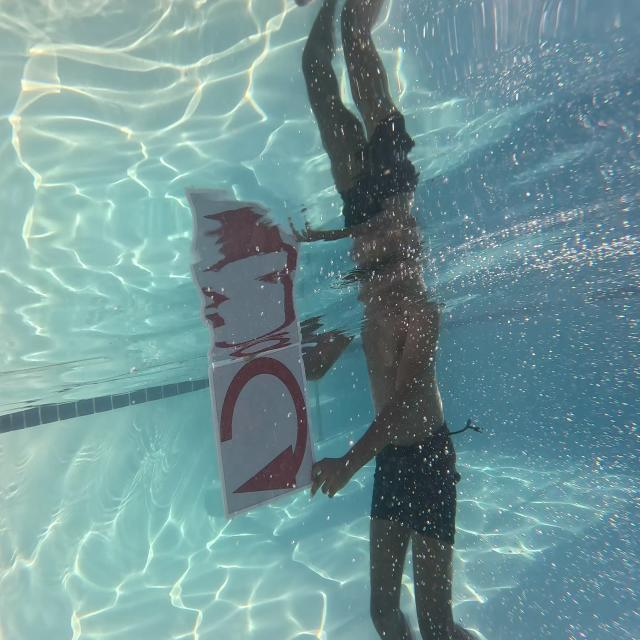red_side: (215, 347, 319, 516)
